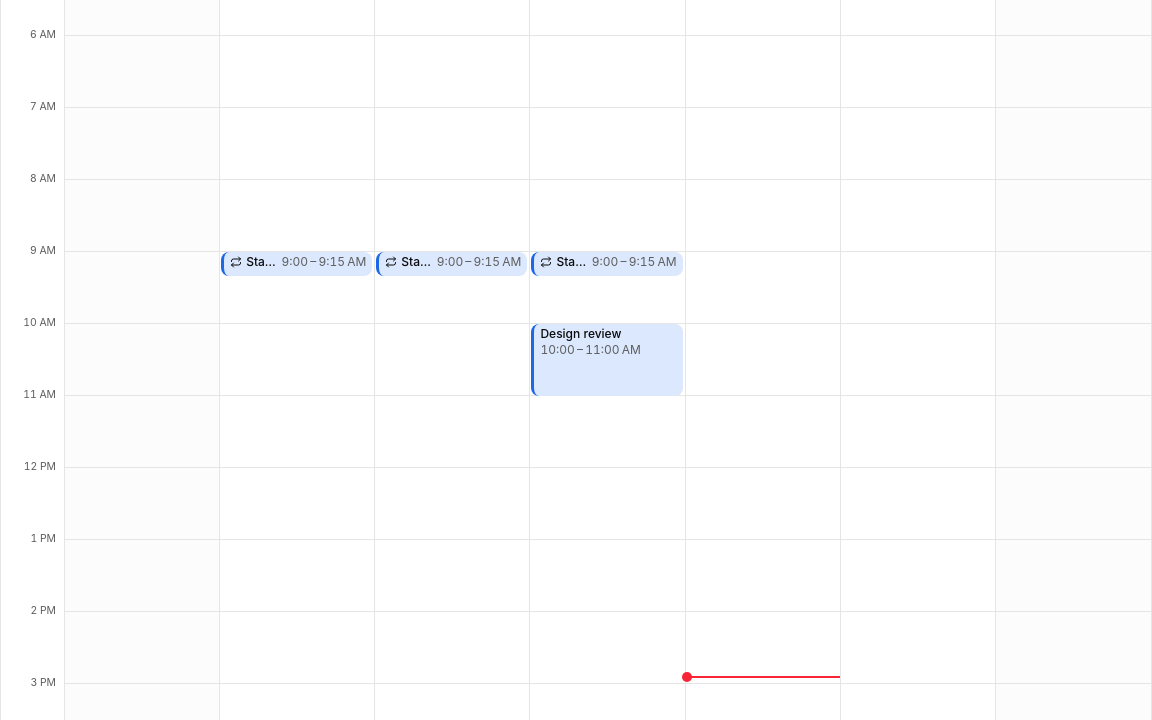
Test: <Calendar> week view › opens the details popover on click
The width and height of the screenshot is (1152, 720).
(page scrolled)
Click the button "Design review 10:00 – 11:00 AM".
click(607, 360)  # box [531,324,682,396]
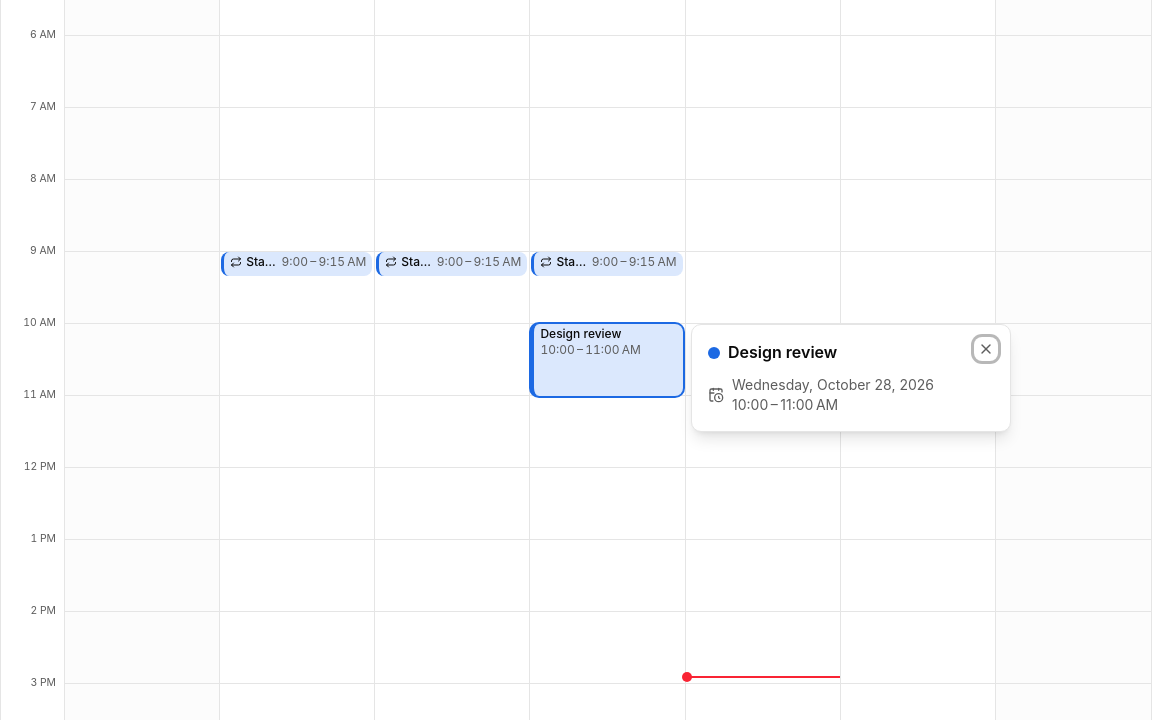
Now the heading "Design review" is shown, box [728,342,837,362]
